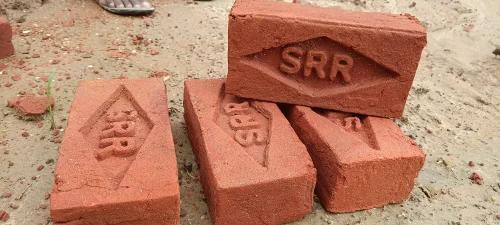brick: (228, 11, 428, 119), (332, 156, 425, 214), (216, 176, 314, 224), (52, 198, 180, 223)
